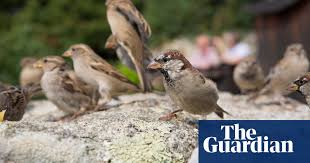hsparrow: (142, 48, 236, 123), (62, 44, 142, 109), (29, 55, 102, 115), (259, 42, 308, 103), (230, 53, 268, 96), (284, 71, 310, 105)
